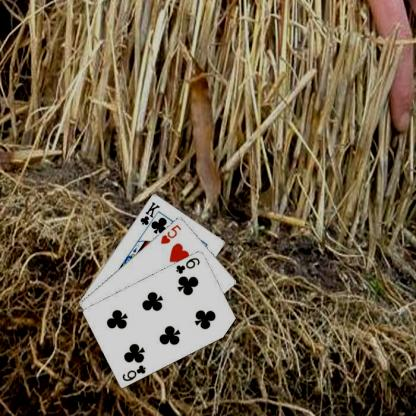5H: (158, 222, 183, 245)
6C: (174, 255, 202, 275), (120, 362, 148, 382)
KC: (137, 199, 161, 231)
